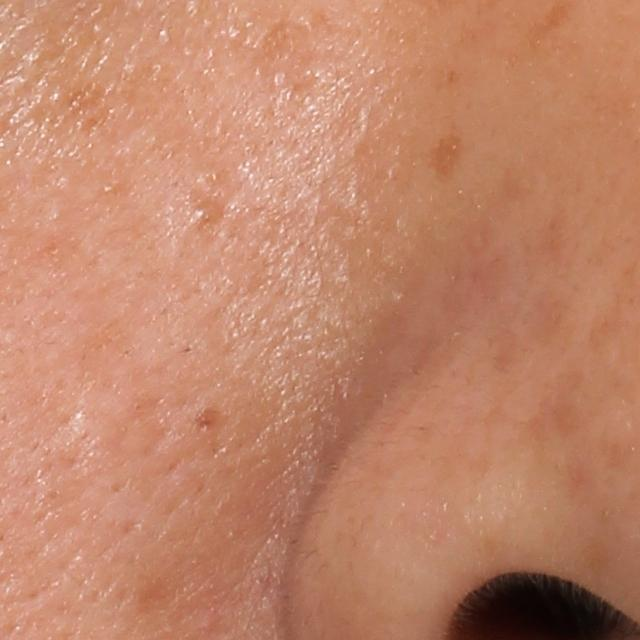comedo: (188, 199, 223, 230)
melasma: (240, 8, 338, 96), (62, 72, 113, 129), (427, 131, 463, 186)
